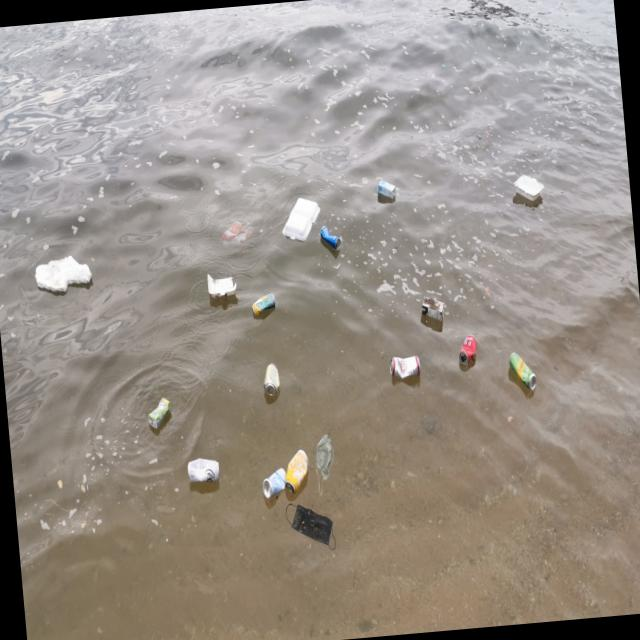can: (282, 447, 312, 497), (509, 349, 536, 392), (186, 456, 220, 485), (389, 352, 421, 381), (262, 466, 289, 498), (261, 362, 280, 401), (250, 290, 276, 318), (457, 334, 478, 366), (320, 224, 340, 254)
foam: (34, 252, 94, 294), (279, 195, 322, 242), (512, 173, 546, 204), (207, 270, 237, 300)
plastic bottle: (218, 217, 255, 251)
unknow: (282, 498, 338, 556), (311, 430, 338, 495), (144, 396, 173, 431), (419, 290, 446, 324), (377, 178, 396, 201)
